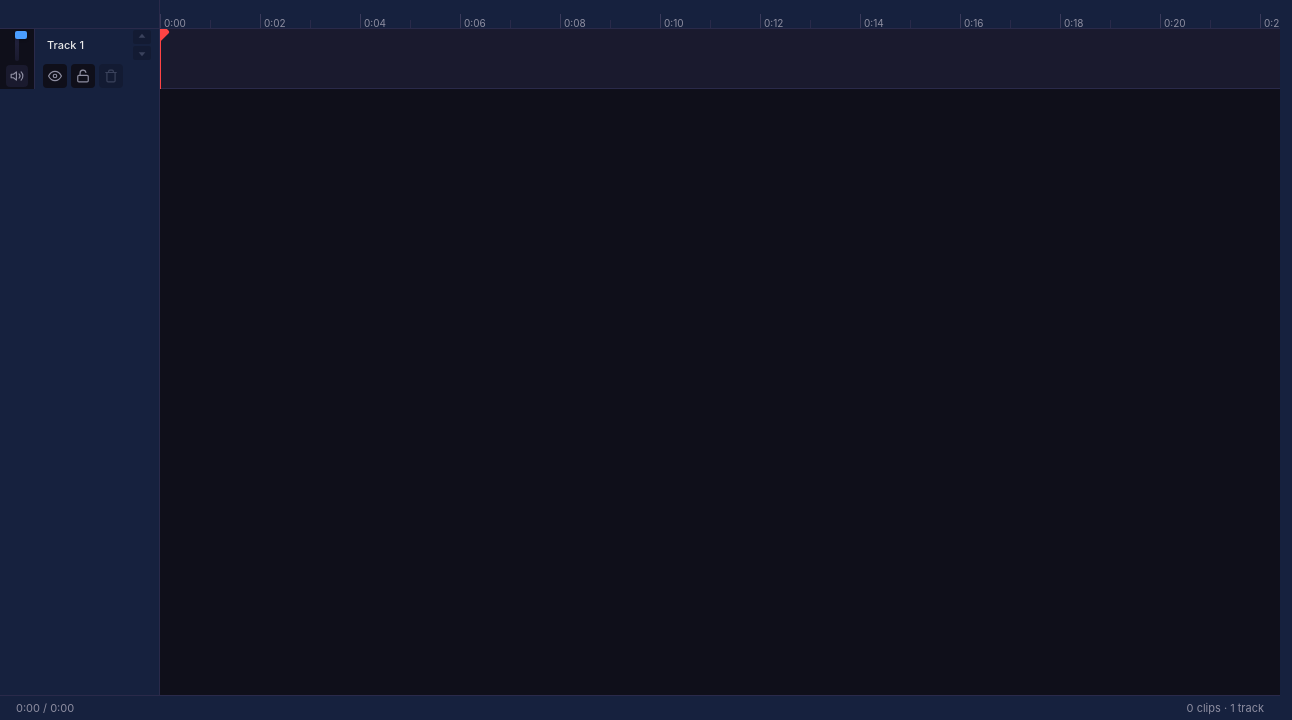
Timeline - track controls › shows correct visibility button state
Click the button titled "Hide track": (55, 76) x1=43 y1=64 x2=67 y2=88
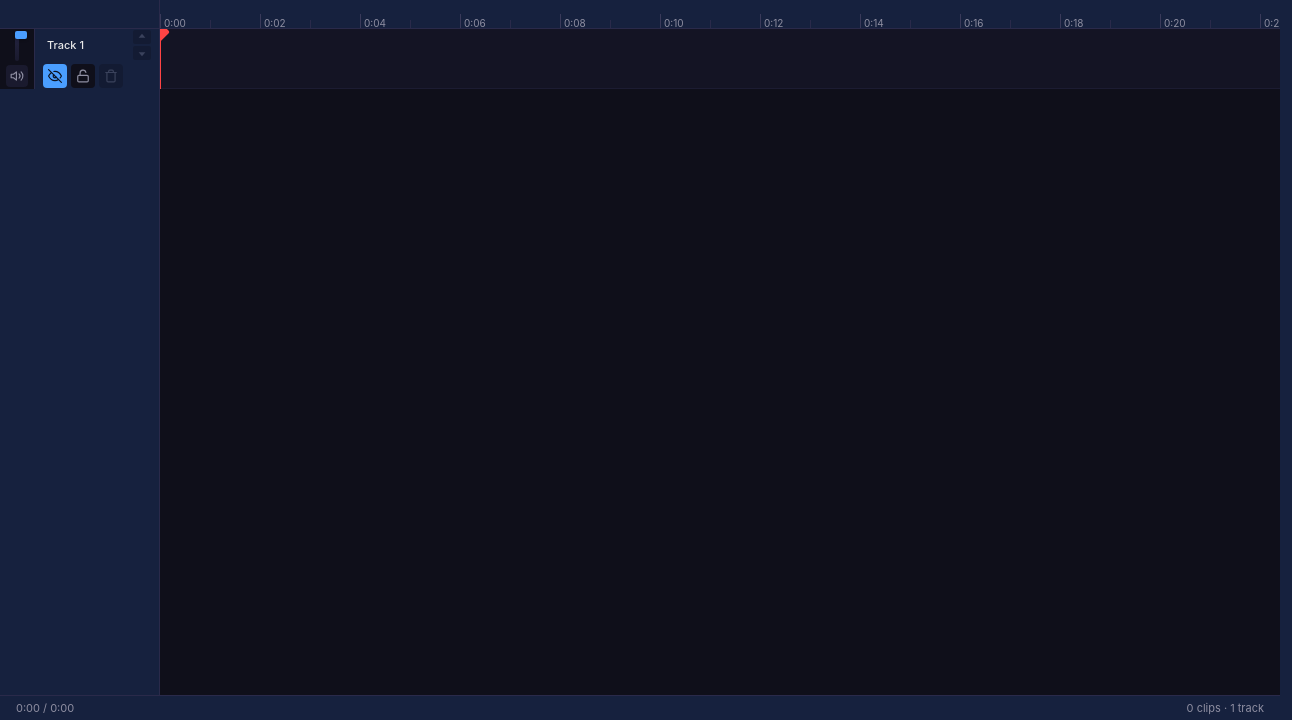
Expected: the button titled "Show track" is shown, x1=43 y1=64 x2=67 y2=88
